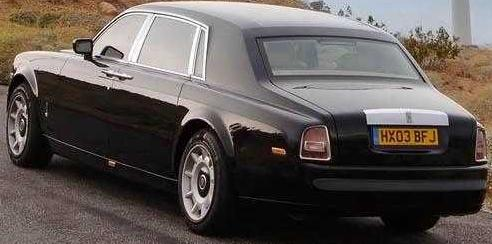back_view: (287, 103, 475, 220)
backlight: (294, 121, 339, 166)
side_glass: (81, 8, 210, 81)
